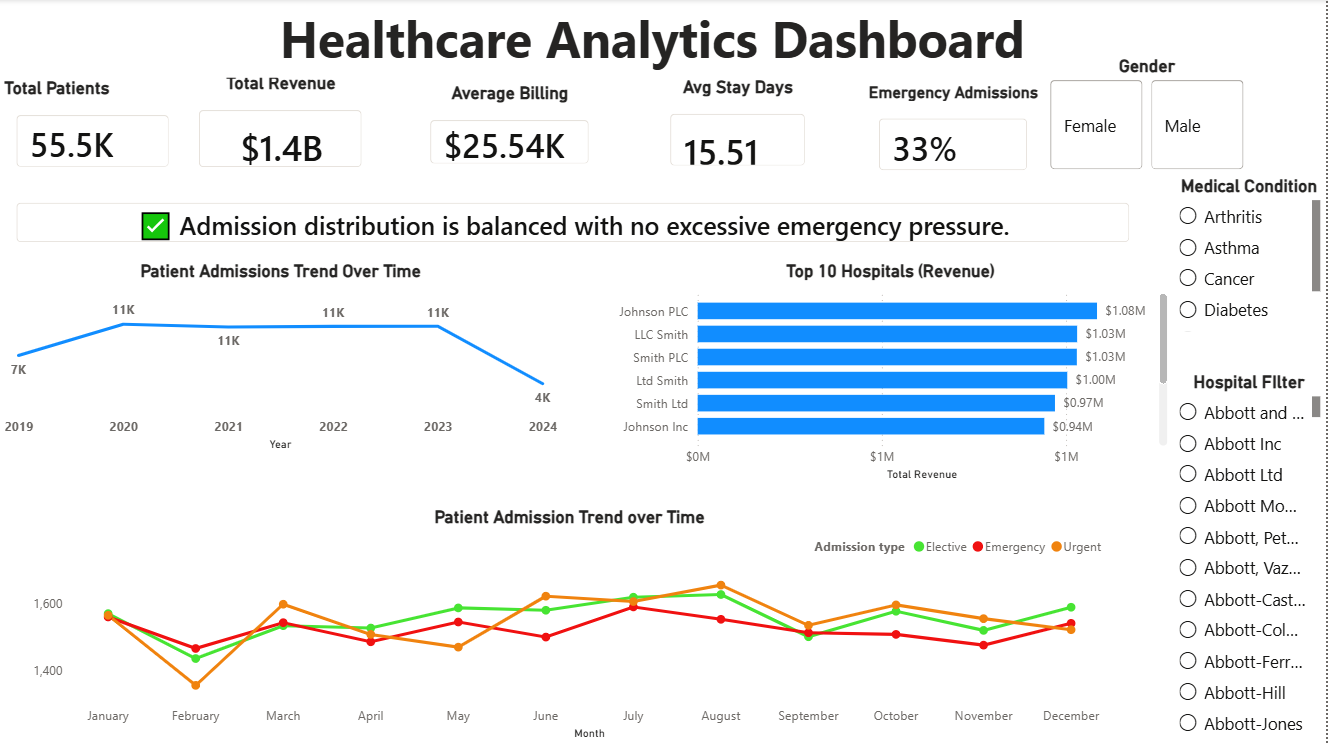

The dashboard page shown, as its layout file describes it:
{"tool":"powerbi","page":{"name":"Page 1","canvas":[1280,720],"ordinal":0},"visuals":[{"type":"cardVisual","title":"Total Patients","fields":{"Data":["healthcare_project healthcare_data.Total Patients"]},"box":[0,76.5,181.8,103.9],"z":0},{"type":"cardVisual","title":"Total Revenue","fields":{"Data":["healthcare_project healthcare_data.Total Revenue Display"]},"box":[176,70.7,191.9,108.2],"z":1000},{"type":"cardVisual","title":"Average Billing","fields":{"Data":["healthcare_project healthcare_data.Avg Billing"]},"box":[399.6,80.8,187.6,95.2],"z":2000},{"type":"cardVisual","title":"Avg Stay Days","fields":{"Data":["healthcare_project healthcare_data.Avg Stay"]},"box":[630.5,75,164.5,103.9],"z":3000},{"type":"lineChart","title":"Patient  Admission Trend over Time","fields":{"Y":["CountNonNull(healthcare_project healthcare_data.patient_name)"],"Category":["healthcare_project healthcare_data.admission_date.Variation.Date Hierarchy.Year","healthcare_project healthcare_data.admission_date.Variation.Date Hierarchy.Month"],"Series":["healthcare_project healthcare_data.admission_type"]},"box":[27.7,489.8,1046,230.4],"z":4000},{"type":"textbox","box":[0,0,1260.7,76],"z":5000},{"type":"clusteredBarChart","title":"Top 10 Hospitals (Revenue)","fields":{"Category":["healthcare_project healthcare_data.hospital"],"Y":["healthcare_project healthcare_data.Total Revenue"]},"box":[587.2,252.5,545.4,217.9],"z":6000},{"type":"lineChart","title":"Patient Admissions Trend Over Time","fields":{"Y":["CountNonNull(healthcare_project healthcare_data.patient_name)"],"Category":["healthcare_project healthcare_data.admission_date.Variation.Date Hierarchy.Year","healthcare_project healthcare_data.admission_date.Variation.Date Hierarchy.Month"]},"box":[0,252.5,543.9,189],"z":7000},{"type":"advancedSlicerVisual","title":"Gender","fields":{"Values":["healthcare_project healthcare_data.gender"]},"box":[1009.9,54.8,196.2,115.4],"z":8000},{"type":"listSlicer","title":"Medical Condition","fields":{"Values":["healthcare_project healthcare_data.medical_condition"]},"box":[1132.8,170.1,147.2,155.6],"z":9000},{"type":"listSlicer","title":"Hospital FIlter","fields":{"Values":["healthcare_project healthcare_data.hospital"]},"box":[1132.8,359.5,147.2,360.7],"z":10000},{"type":"cardVisual","title":"Emergency Admissions","fields":{"Data":["healthcare_project healthcare_data.Emergency %"]},"box":[832.5,80.8,177.5,102.4],"z":11000},{"type":"cardVisual","fields":{"Data":["healthcare_project healthcare_data.AI Insight"]},"box":[0,180.3,1108,72.1],"z":12000}]}

Visuals, with their boxes in screenshot pixels (x1, y1, x2, y2), scaled from the page's 1280x720 canvas onto the 1328x744 screenshot:
"Total Patients" cardVisual: <box>0,79,189,186</box>
"Total Revenue" cardVisual: <box>183,73,382,185</box>
"Average Billing" cardVisual: <box>415,83,609,182</box>
"Avg Stay Days" cardVisual: <box>654,78,825,185</box>
"Patient  Admission Trend over Time" lineChart: <box>29,506,1114,743</box>
textbox: <box>0,0,1308,79</box>
"Top 10 Hospitals (Revenue)" clusteredBarChart: <box>609,261,1175,486</box>
"Patient Admissions Trend Over Time" lineChart: <box>0,261,564,456</box>
"Gender" advancedSlicerVisual: <box>1048,57,1251,176</box>
"Medical Condition" listSlicer: <box>1175,176,1327,337</box>
"Hospital FIlter" listSlicer: <box>1175,371,1327,743</box>
"Emergency Admissions" cardVisual: <box>864,83,1048,189</box>
cardVisual - healthcare_project healthcare_data.AI Insight: <box>0,186,1150,261</box>
